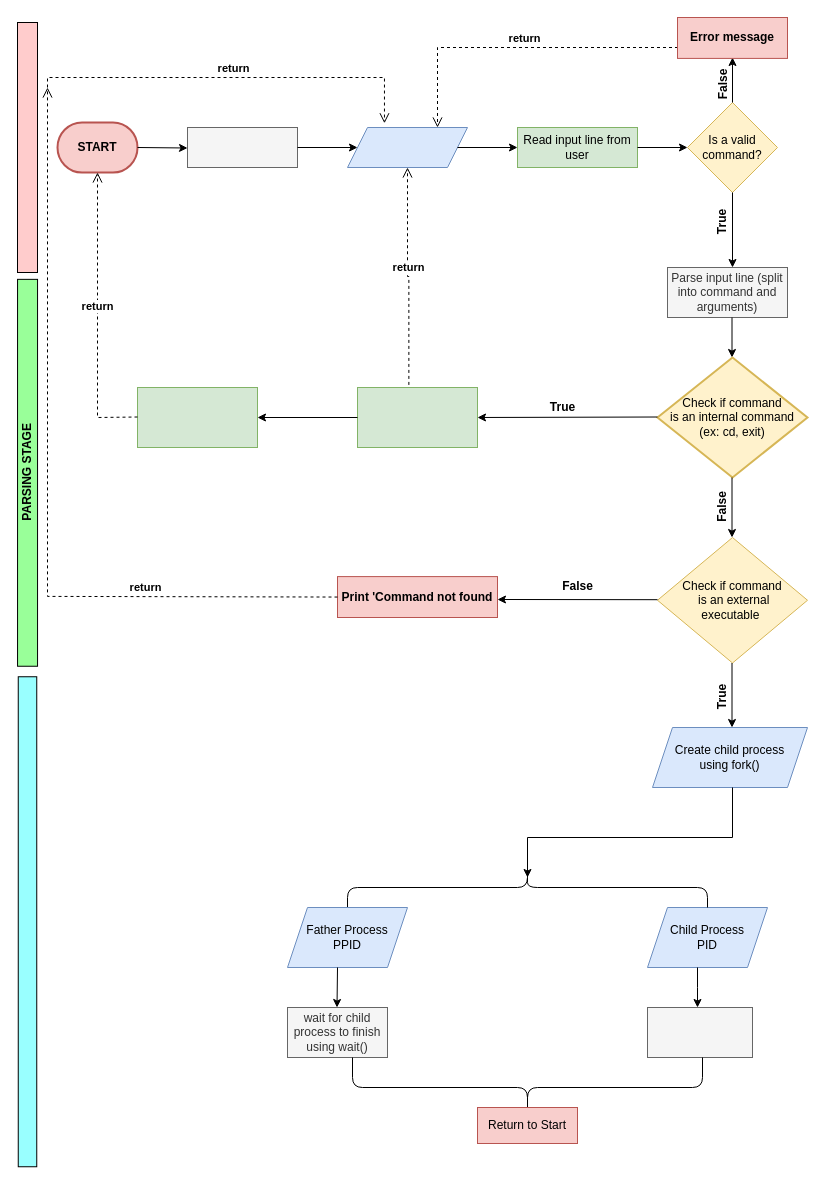
Image size: 826x1185. Some labels were removed from this diagram. The shapes that lost their labels are listed below. From the top down, each one's box as (x1, y1, x2, y2) in pixels, then its label:
(16, 22, 38, 272): INITIALIZATION AND READING STAGE
(186, 126, 298, 168): Run shell program
(346, 126, 468, 168): Print prompt (ex:"$ ")
(136, 386, 258, 448): If command is "exit", exit shell program
(356, 386, 478, 448): If command is "cd", change current directory
(17, 676, 37, 1167): EXECUTION STAGE
(646, 1006, 752, 1058): execute command using exec()
